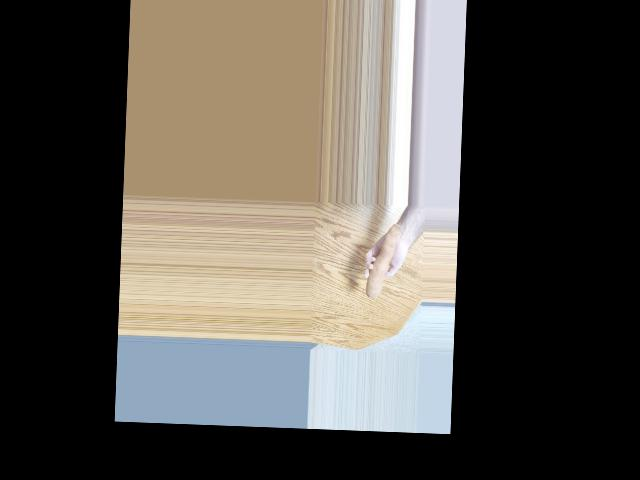sweet_potato: (361, 231, 396, 310)
